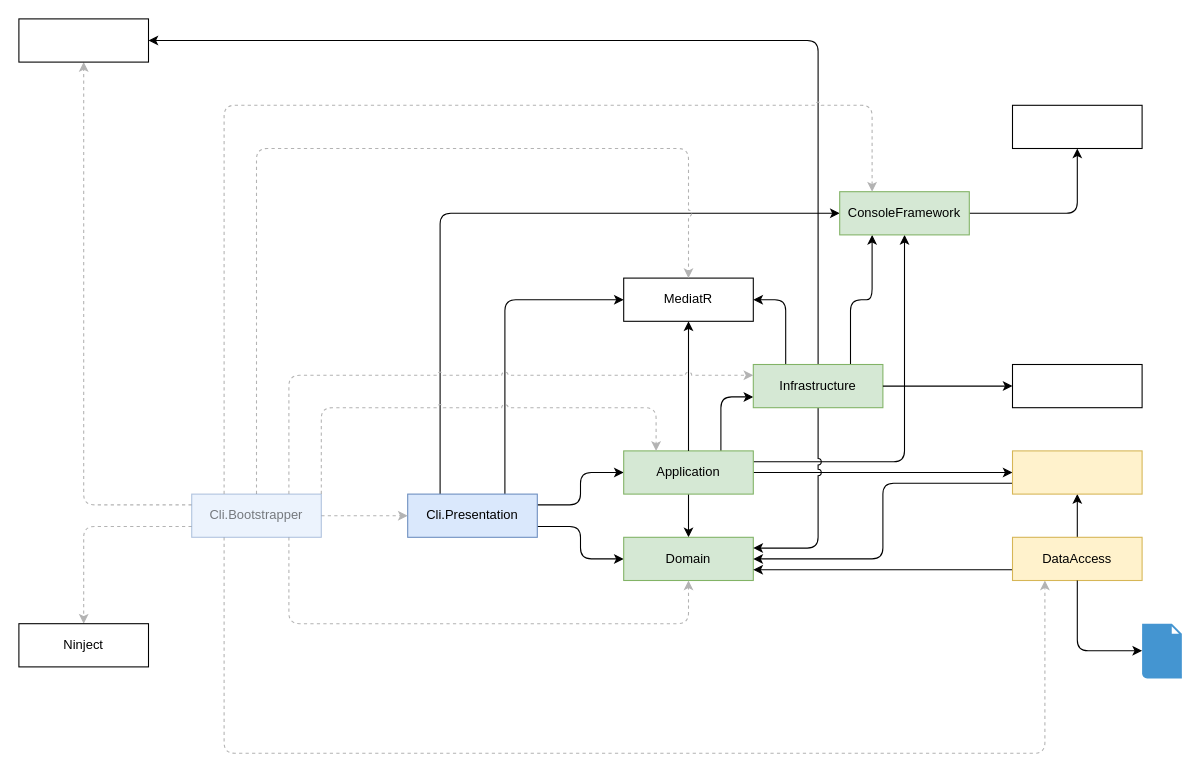
This 1201x781 diagram has some shape labels left out. The shapes that lost their labels are listed below. From the top down, each one's box as (x1, y1, x2, y2) in pixels, then its label:
(18, 18, 148, 62): FluentValidation
(1011, 104, 1142, 148): ConsoleTools
(1011, 363, 1142, 408): log4net
(1011, 450, 1142, 494): JsonHashesFile
(1142, 623, 1181, 678): json
